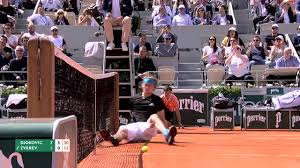10+: (1, 1, 300, 149)
down: (108, 75, 168, 146)
